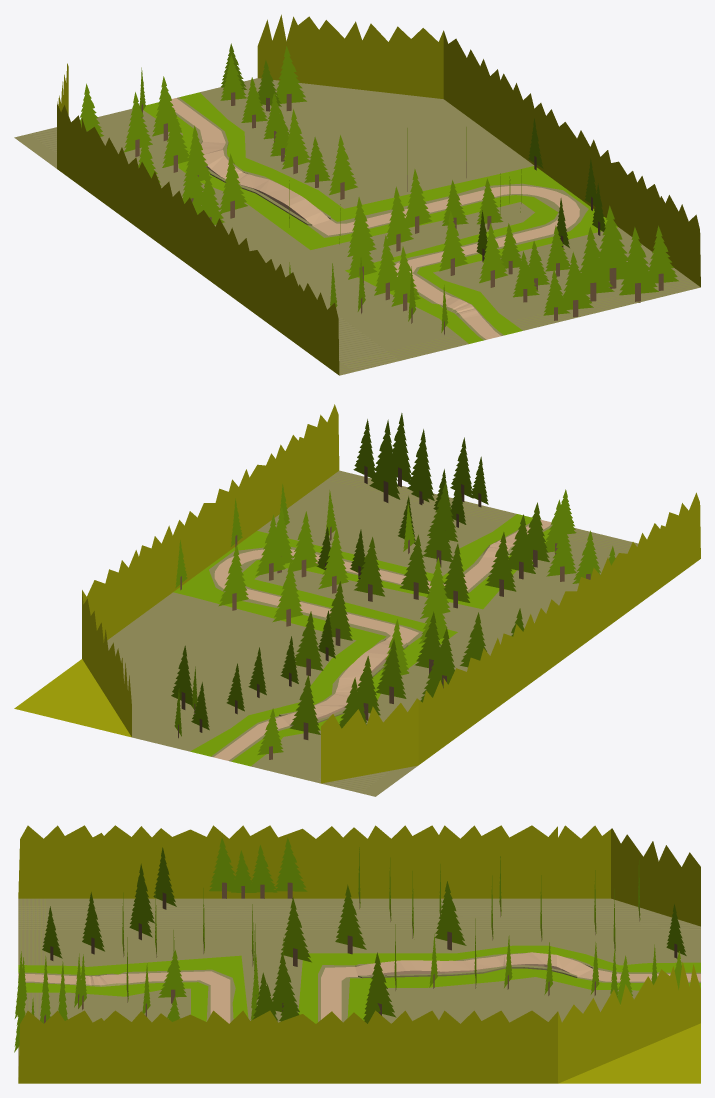
Rendered from forest04.glb.
3 views of the same model, one above another, from view 1: azimuth 30°, elevation 25°; view 2: azimuth 150°, elevation 25°; view 3: azimuth 270°, elevation 25° (orthographic). The views are drawn at different scales.
Visible parts, largest first — view 1: Geom3D (×5); view 2: Geom3D (×5); view 3: Geom3D (×5).
Part boxes in pixels (x1,y1,x2,y2): Geom3D (×5): [14, 14, 700, 375]; Geom3D (×5): [14, 404, 700, 796]; Geom3D (×5): [14, 825, 700, 1083].
Size of the model in its own units: 1916283 by 432404 by 3005483.
Materials: 8 (4 with a texture image).
